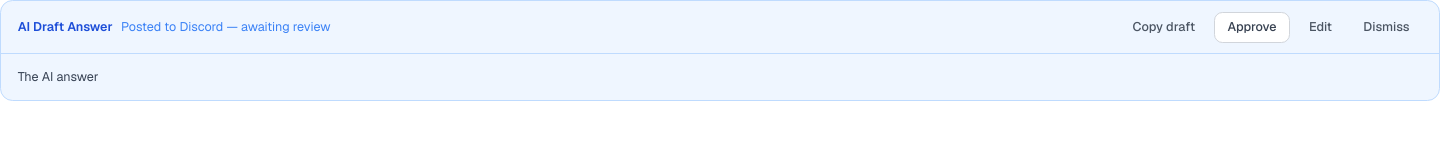
Scenario: AIDraftPanel — Copy draft button › flips the button label to "Copied" after a copy
Step 1. Click the button "Copy draft" → (1164, 27), box [1120,12,1208,42]
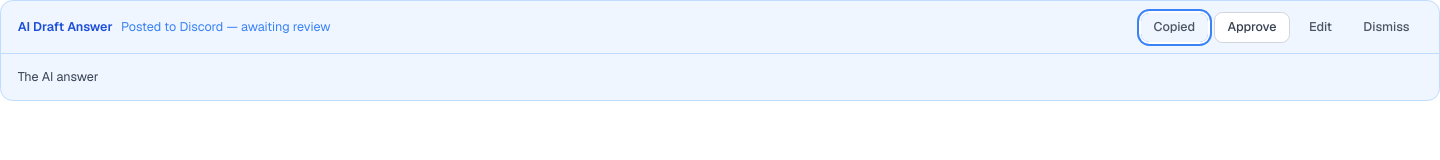
Check: the button "Copied" is shown, box [1141,12,1208,42]
